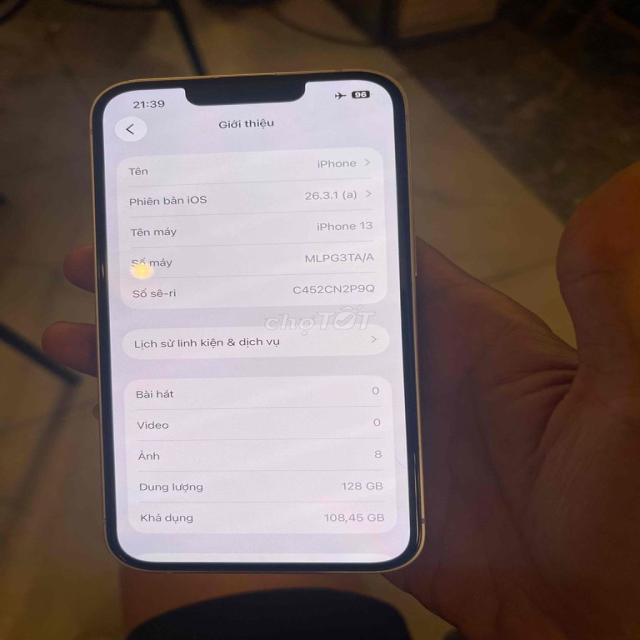gen_12_13: (85, 68, 425, 572)
